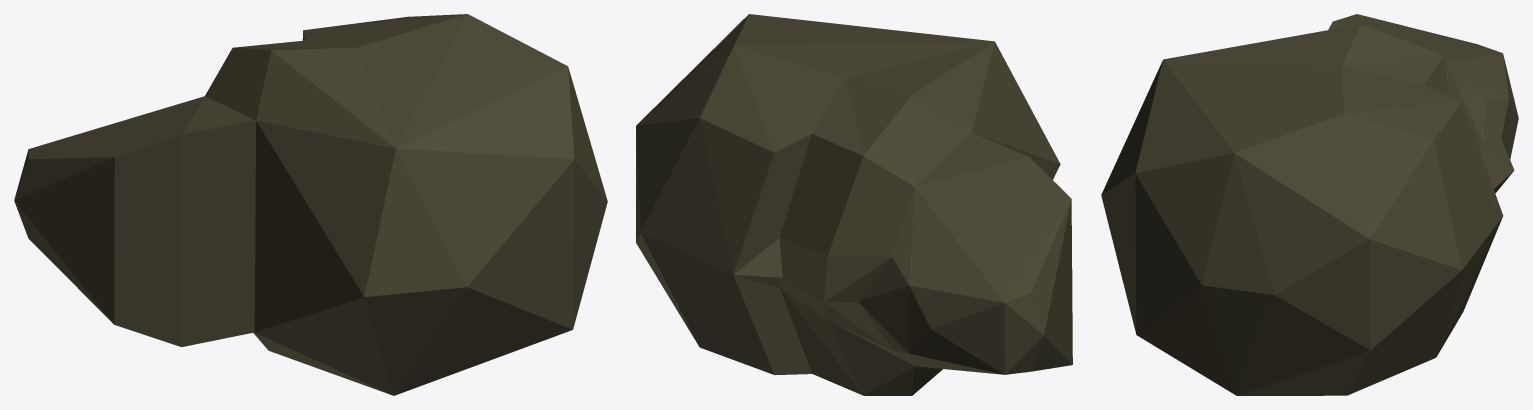
File: SKE_HEAD.OBJ
The picture shows the model from 3 angles, left to right: view 1: azimuth 30°, elevation 25°; view 2: azimuth 150°, elevation 25°; view 3: azimuth 270°, elevation 25°; orthographic projection. The views are drawn at different scales.
Visible parts, largest first — view 1: SKE_HEAD; view 2: SKE_HEAD; view 3: SKE_HEAD.
Boxes of the visible parts, box(x1,y1,x2,y2) form: SKE_HEAD: box(14, 14, 607, 395); SKE_HEAD: box(636, 14, 1072, 395); SKE_HEAD: box(1101, 14, 1518, 395).
Bounding box in the file's own units: 0.2363 × 0.1451 × 0.1923.
